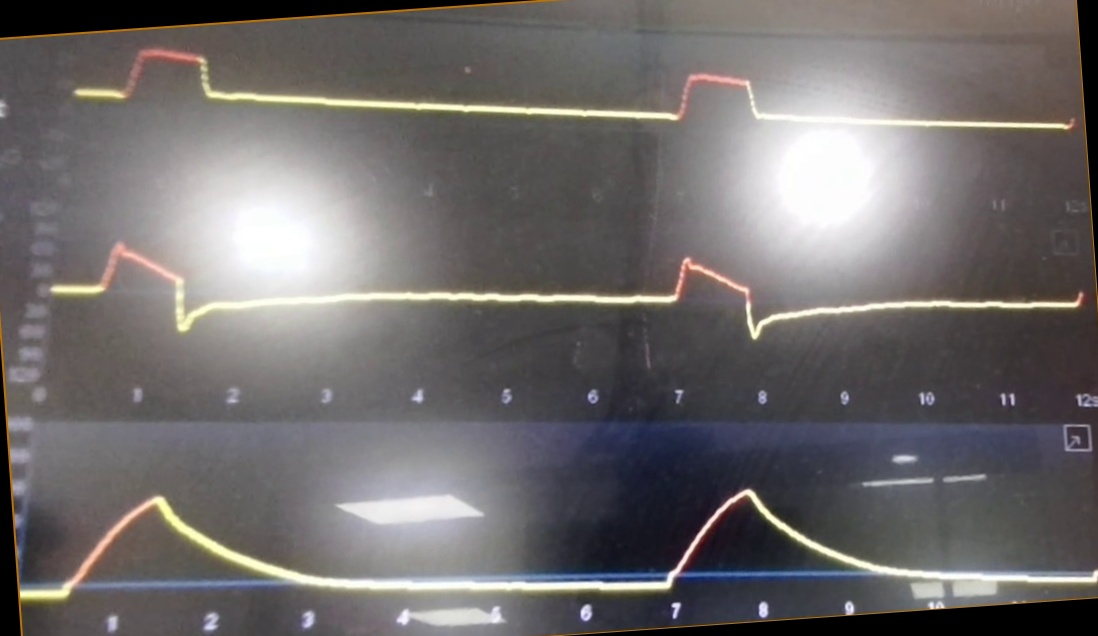Normal Flow: (56, 201, 1089, 374)
Normal Volume: (26, 462, 1098, 603)
